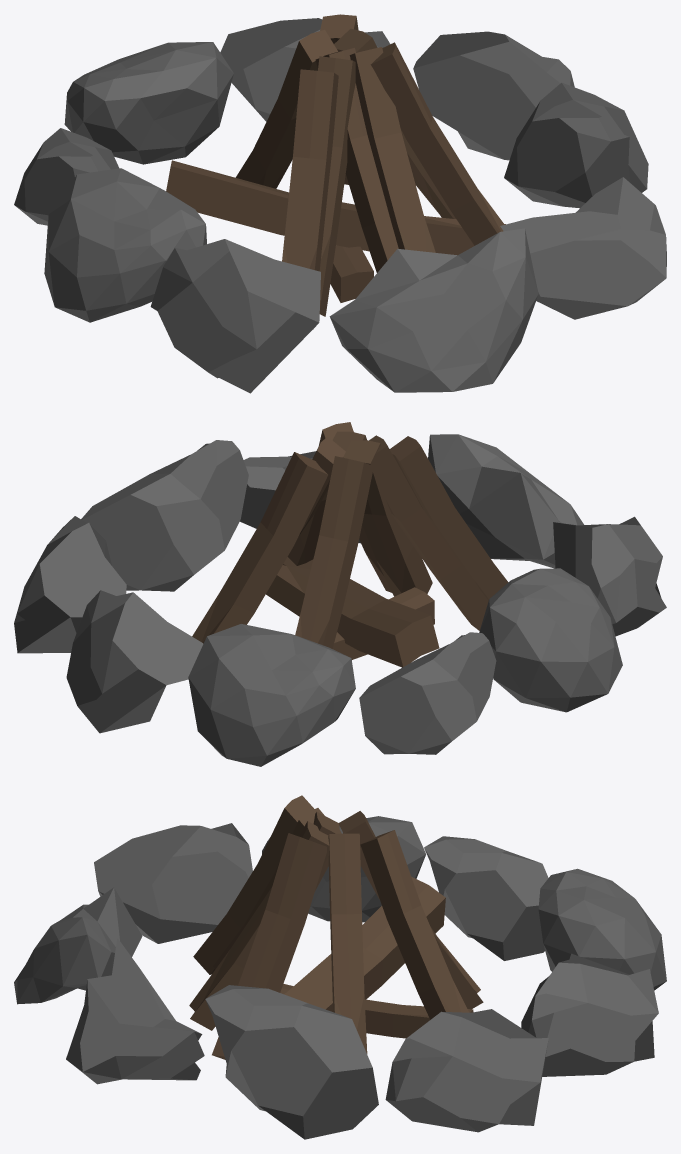
File: Firecamp.glb
3 views of the same model, one above another, from view 1: azimuth 30°, elevation 25°; view 2: azimuth 150°, elevation 25°; view 3: azimuth 270°, elevation 25° (orthographic). The views are drawn at different scales.
Parts seen in each view (by area): view 1: Firecamp, Cube.001; view 2: Firecamp, Cube.001; view 3: Firecamp, Cube.001.
Part boxes in pixels (<box>): Firecamp: <box>14,18,666,393</box>; Cube.001: <box>166,14,505,329</box>; Firecamp: <box>14,434,666,766</box>; Cube.001: <box>192,422,508,667</box>; Firecamp: <box>14,816,666,1139</box>; Cube.001: <box>189,795,483,1059</box>.
Size of the model in its own units: 2.26 by 0.8451 by 2.43.
